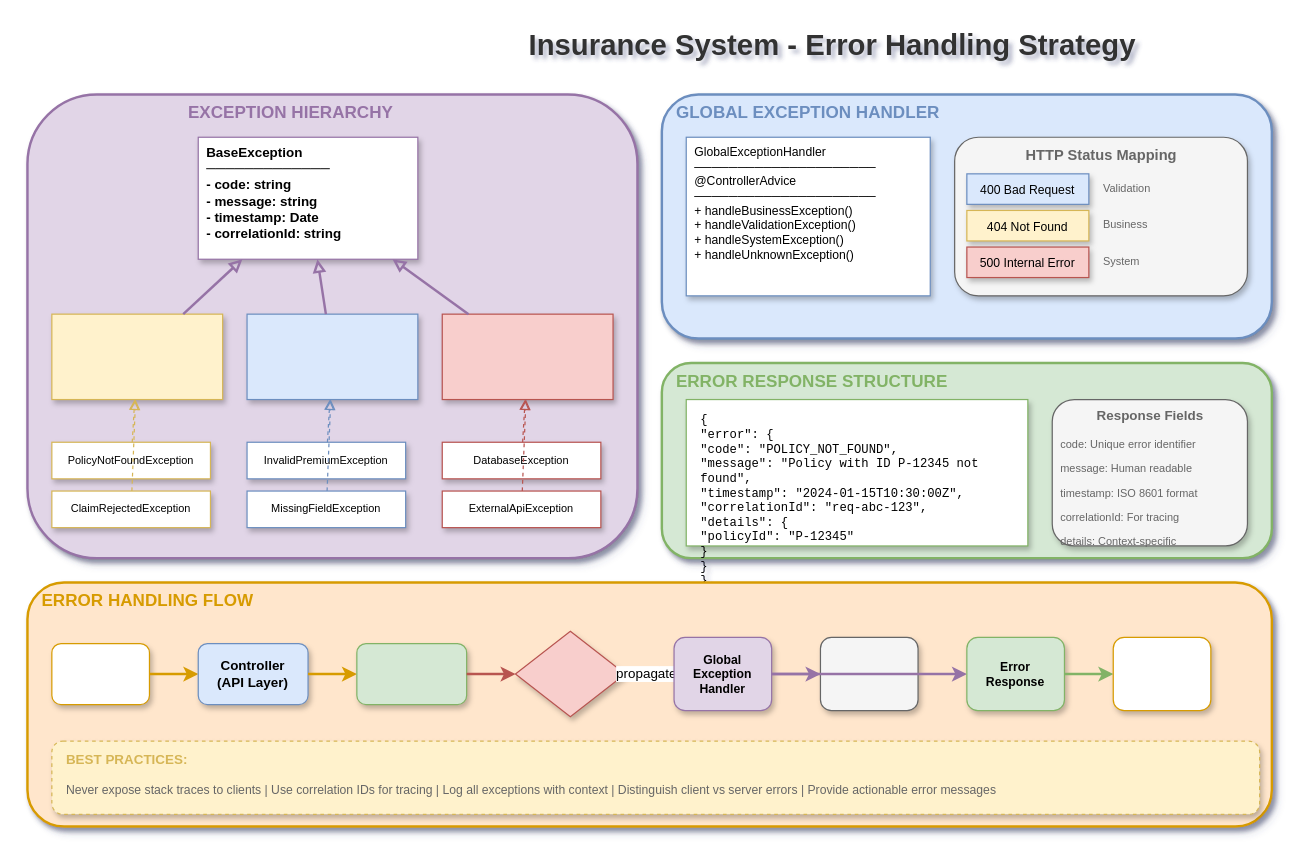
This 1308x864 diagram has some shape labels left out. The centre of each missing label's shape, as x and y in pixels:
BusinessException ───────────── - businessCode: string - context: object: the point at 138,358
Client Receives Error: the point at 1162,675
Client Request: the point at 101,675
Exception Thrown: the point at 571,675
Logging Service: the point at 869,675
Service (Business): the point at 412,675
SystemException ───────────── - severity: string - retryable: boolean: the point at 528,358
ValidationException ───────────── - field: string - violations: array: the point at 333,358
